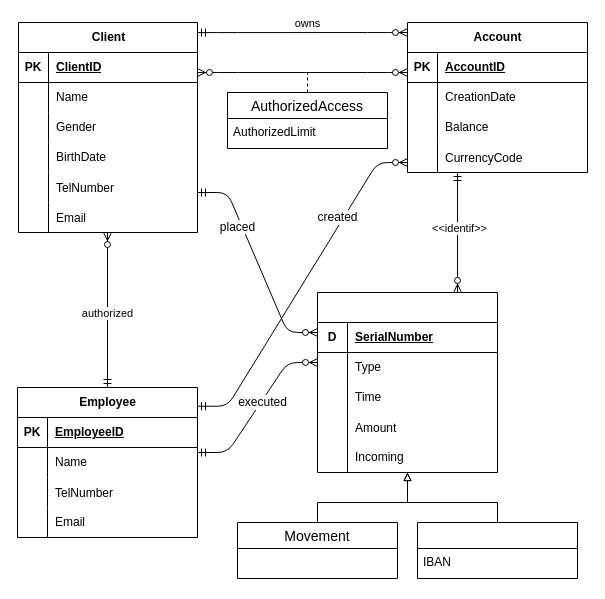
Image size: 605x599. Some labels were removed from this diagram. The box of each missing label's shape, as (x1, y1, x2, y2) in pixels:
<<weak>> Transaction: (316, 292, 498, 472)
Transfer: (416, 522, 578, 578)
